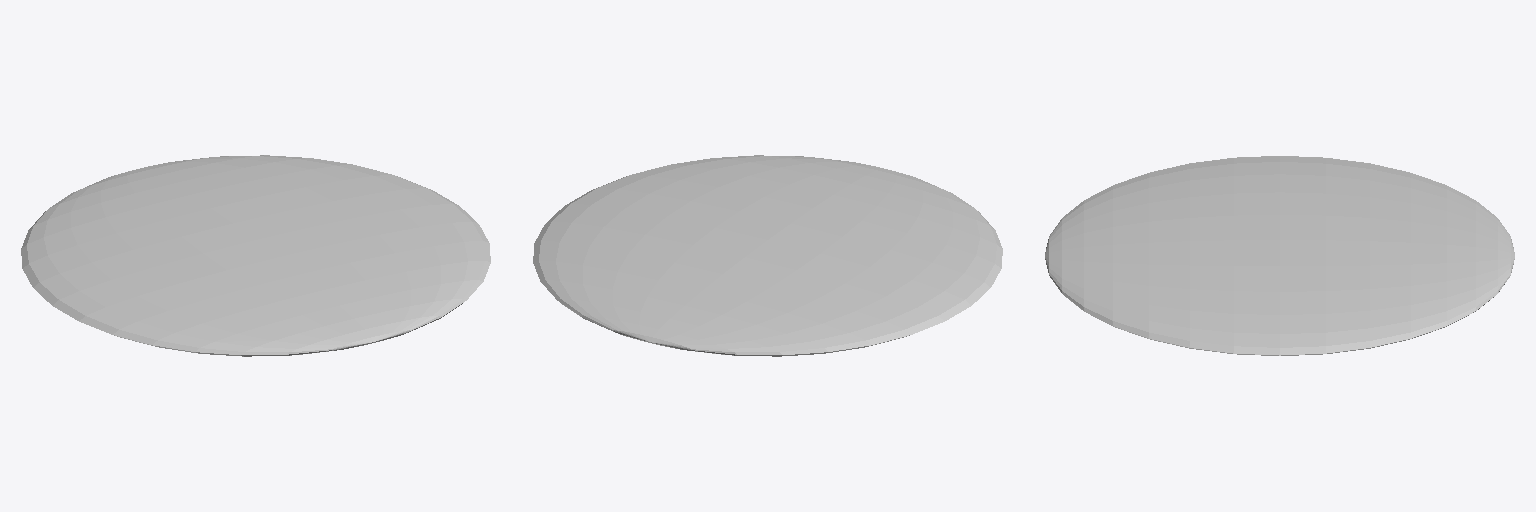
File: portal001.obj
The picture shows the model from 3 angles: view 1: azimuth 30°, elevation 25°; view 2: azimuth 150°, elevation 25°; view 3: azimuth 270°, elevation 25°; orthographic projection.
Parts seen in each view (by area): view 1: portal.001_Sphere.005; view 2: portal.001_Sphere.005; view 3: portal.001_Sphere.005.
Boxes of the visible parts, box(x1,y1,x2,y2) form: portal.001_Sphere.005: box(21, 155, 490, 356); portal.001_Sphere.005: box(533, 155, 1002, 356); portal.001_Sphere.005: box(1045, 156, 1514, 355).
Bounding box in the file's own units: 4 × 0.3 × 4.